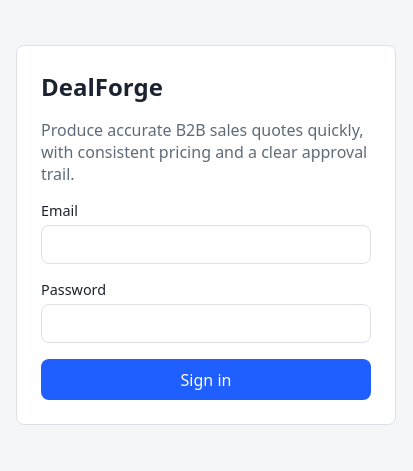
App routing and authentication › shows a generic error for invalid credentials
Type "rep@helix.example" into the field labelled "Email" at {"x": 206, "y": 244}, box [41,225,371,264]
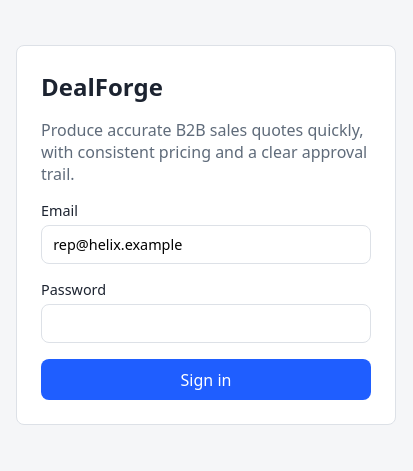
Type "wrong" into the password field labelled "Password" at {"x": 206, "y": 324}, box [41,304,371,343]
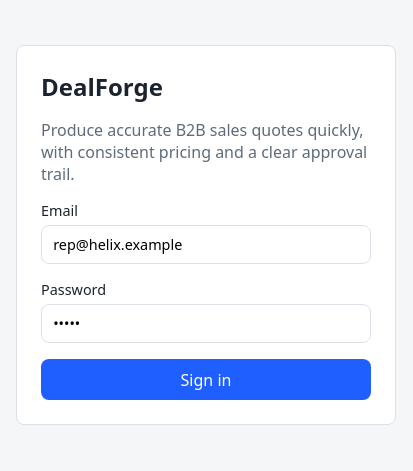
Click the button "Sign in" at {"x": 206, "y": 380}, box [41,359,371,400]
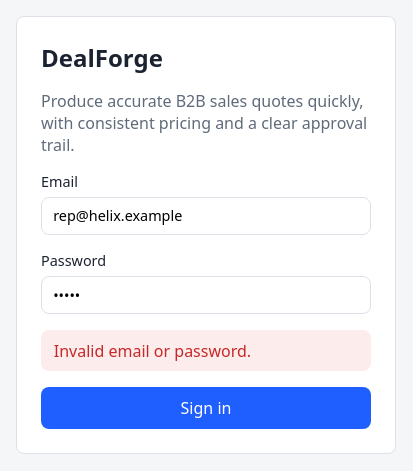
Now the message reads "Invalid email or password.", box [54,340,251,362]
